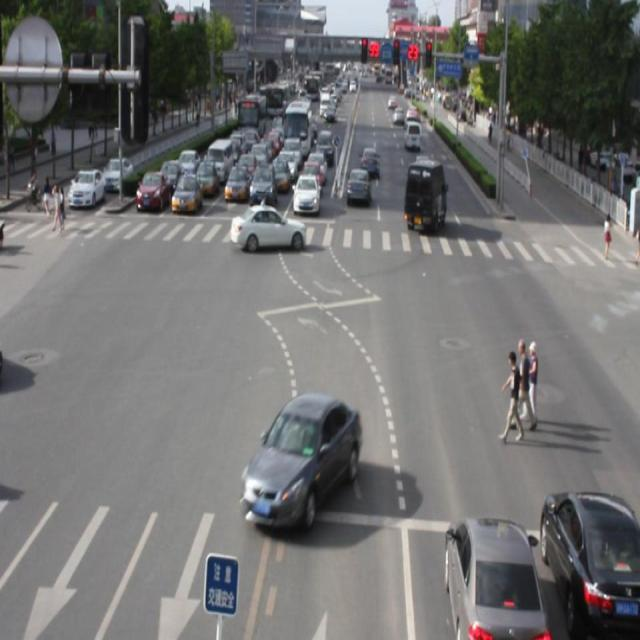car: (242, 391, 361, 528), (535, 493, 640, 640), (442, 516, 541, 640), (229, 202, 305, 254)
